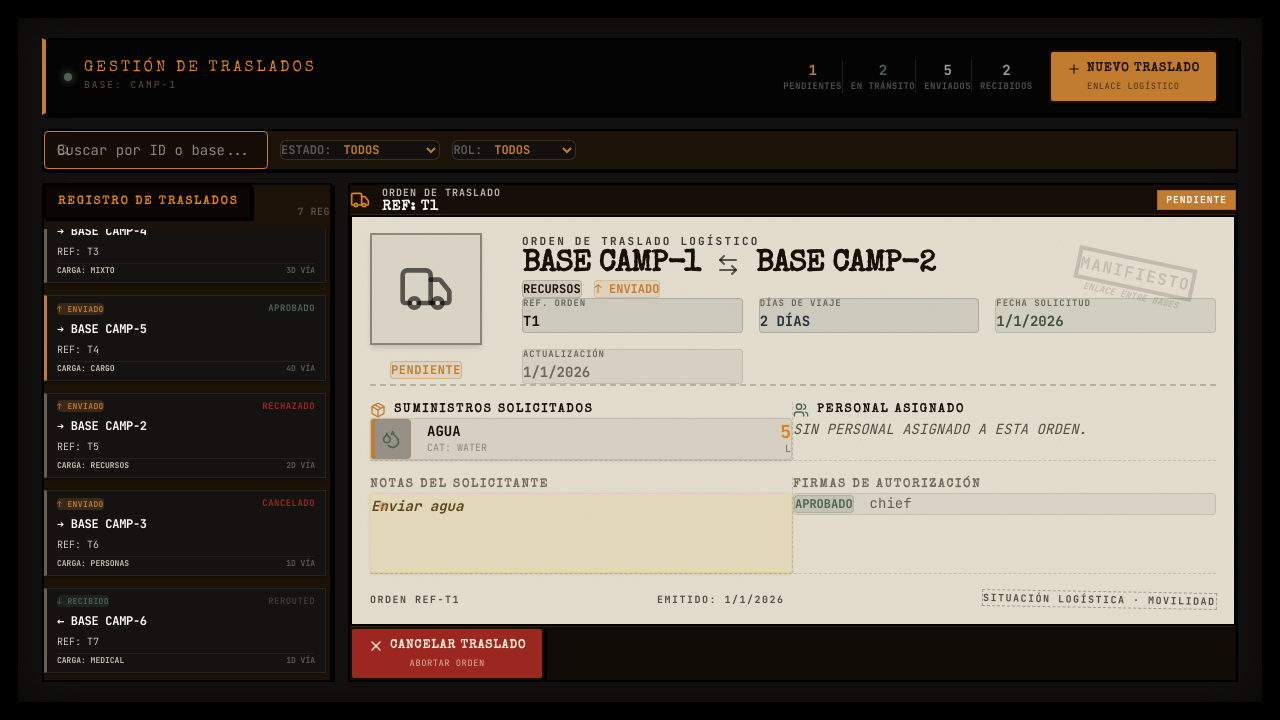
Scenario: TravelTransfers › renders unknown transfer status and type fallbacks
The width and height of the screenshot is (1280, 720).
(page scrolled)
Click the heading "← BASE CAMP-6" at (102, 621), box left=57, top=613, right=147, bottom=629
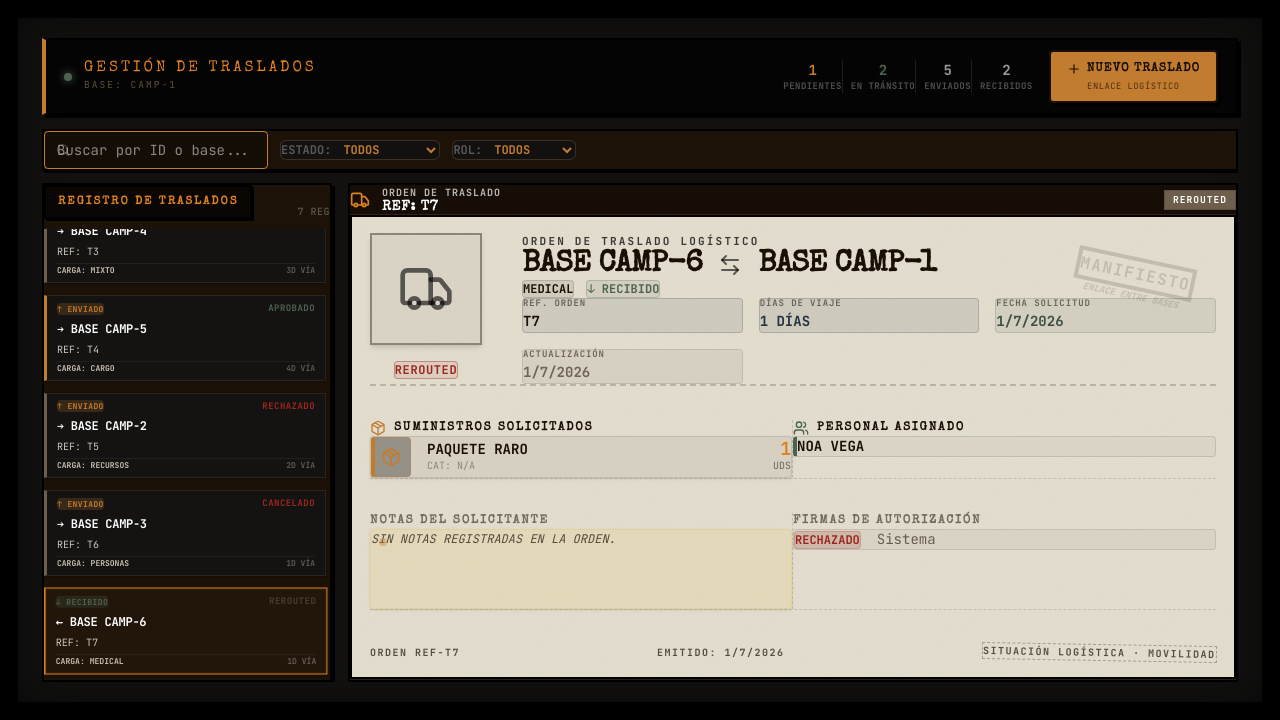
Expected: the text "rerouted" is shown, left=269, top=594, right=316, bottom=608
Result: the text "Paquete raro" is shown at left=427, top=440, right=528, bottom=458
Result: the text "Noa Vega" is shown at left=797, top=437, right=864, bottom=455
